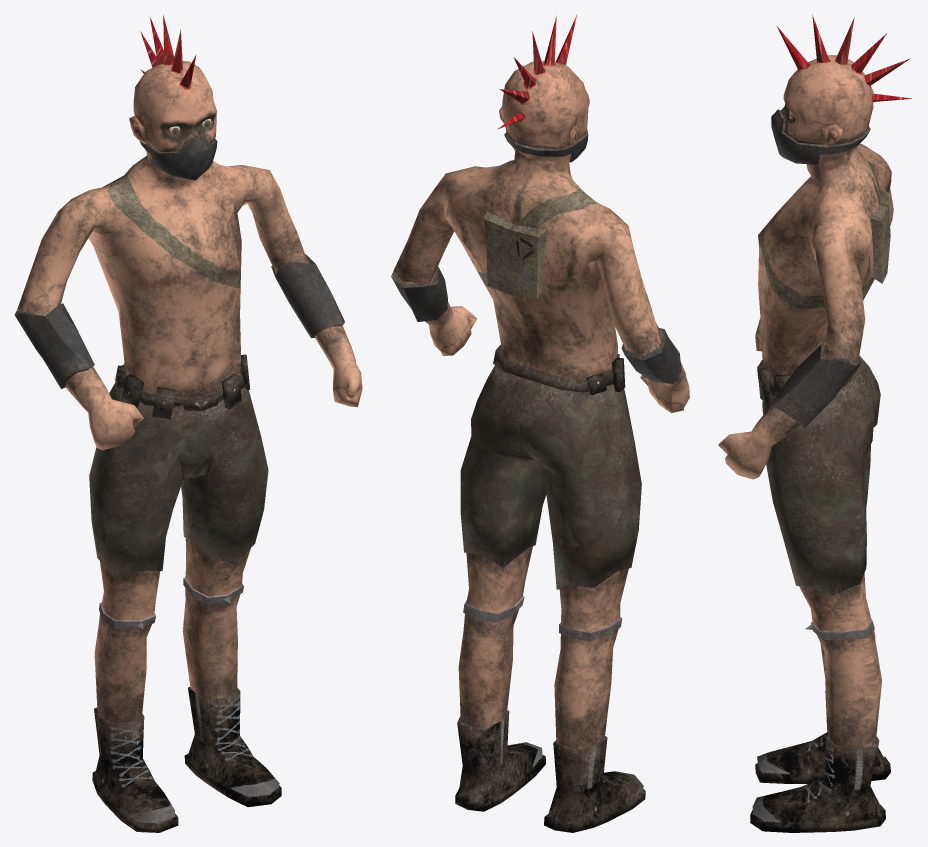
File: Anim_disparar_ametralladora_npc2.0014.obj
3 views of the same model, side by side, from view 1: azimuth 30°, elevation 25°; view 2: azimuth 150°, elevation 25°; view 3: azimuth 270°, elevation 25° (orthographic).
Parts seen in each view (by area): view 1: polySurface1; view 2: polySurface1; view 3: polySurface1.
Part boxes in pixels (x1,y1,x2,y2): polySurface1: (14,15,362,832); polySurface1: (391,15,689,832); polySurface1: (718,14,911,832).
Size of the model in its own units: 3.94 by 10.21 by 2.31.
Materials: 2 (2 with a texture image).
